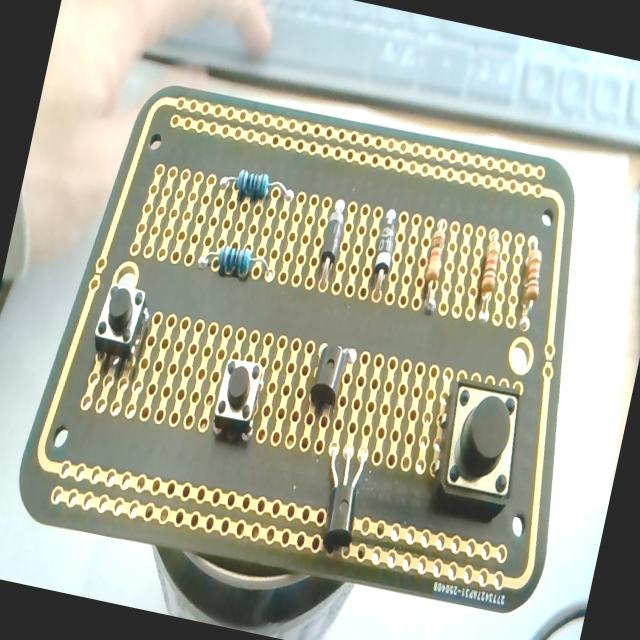diode: (313, 198, 349, 292), (366, 208, 402, 300)
resistor: (508, 235, 550, 332), (413, 218, 452, 315), (196, 237, 274, 285), (218, 164, 294, 208), (471, 230, 506, 322)
switch: (431, 374, 531, 512), (89, 276, 156, 370), (208, 354, 268, 443)
transistor: (308, 436, 374, 552), (306, 341, 356, 416)
